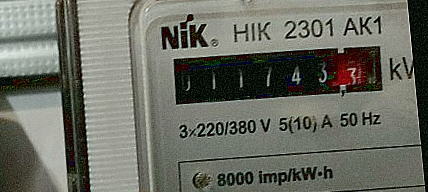0: (177, 66, 193, 94)
1: (204, 63, 220, 92), (232, 62, 247, 91)
3: (313, 58, 329, 86), (342, 65, 359, 87)
4: (287, 61, 303, 87)
7: (259, 62, 275, 88)
screen: (163, 33, 394, 118)
